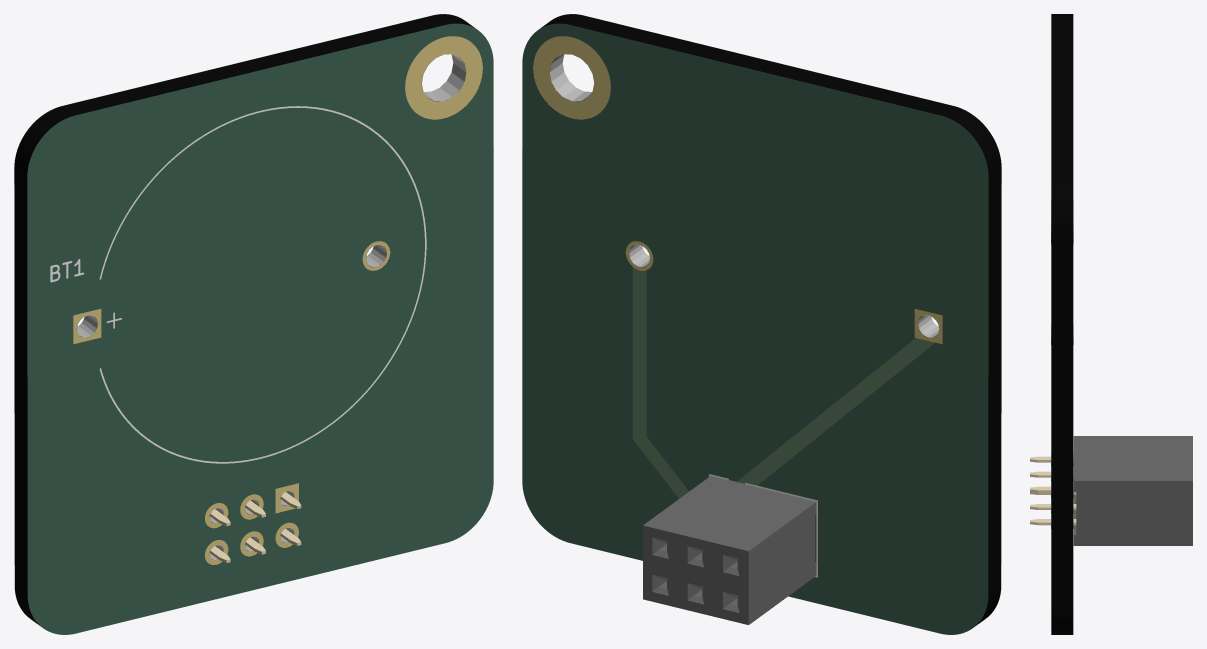
The model's file is board.glb.
3 views of the same model, side by side, from view 1: azimuth 30°, elevation 25°; view 2: azimuth 150°, elevation 25°; view 3: azimuth 270°, elevation 25° (orthographic). The views are drawn at different scales.
Parts seen in each view (by area): view 1: Shape_IndexedFaceSet.172, Shape_IndexedFaceSet.178, Shape_IndexedFaceSet.176, Shape_IndexedFaceSet.181, Shape_IndexedFaceSet.179; view 2: Shape_IndexedFaceSet.172, Shape_IndexedFaceSet.175, Shape_IndexedFaceSet.173, Shape_IndexedFaceSet, Shape_IndexedFaceSet.004, Shape_IndexedFaceSet.001, Shape_IndexedFaceSet.179; view 3: Shape_IndexedFaceSet.172, Shape_IndexedFaceSet.002, Shape_IndexedFaceSet, Shape_IndexedFaceSet.179.
Boxes of the visible parts, x1,y1,x2,y2 form: Shape_IndexedFaceSet.172: [14, 14, 492, 634]; Shape_IndexedFaceSet.178: [27, 23, 493, 634]; Shape_IndexedFaceSet.176: [73, 36, 482, 565]; Shape_IndexedFaceSet.181: [50, 106, 426, 463]; Shape_IndexedFaceSet.179: [76, 54, 466, 559]; Shape_IndexedFaceSet.172: [523, 14, 1001, 634]; Shape_IndexedFaceSet.175: [522, 23, 988, 634]; Shape_IndexedFaceSet.173: [533, 36, 942, 497]; Shape_IndexedFaceSet: [643, 476, 815, 551]; Shape_IndexedFaceSet.004: [643, 525, 748, 624]; Shape_IndexedFaceSet.001: [748, 502, 816, 624]; Shape_IndexedFaceSet.179: [549, 54, 939, 337]; Shape_IndexedFaceSet.172: [1051, 14, 1073, 634]; Shape_IndexedFaceSet.002: [1073, 481, 1192, 545]; Shape_IndexedFaceSet: [1073, 436, 1192, 480]; Shape_IndexedFaceSet.179: [1051, 200, 1073, 528].
Bounding box in the file's own units: 33.56 × 35.65 × 11.6.
